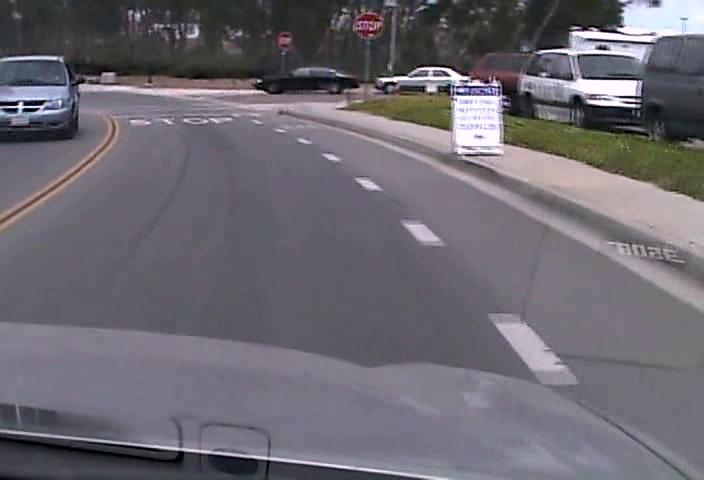stop: (353, 11, 384, 40)
